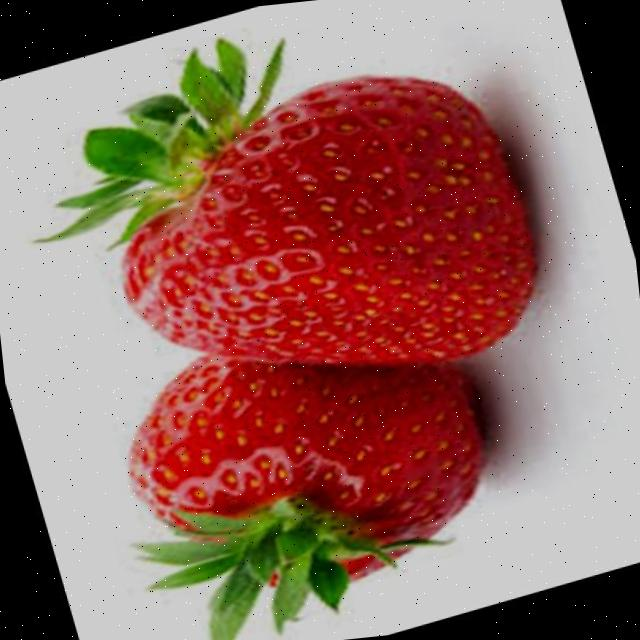strawberry: (41, 39, 534, 362), (129, 356, 483, 640)
